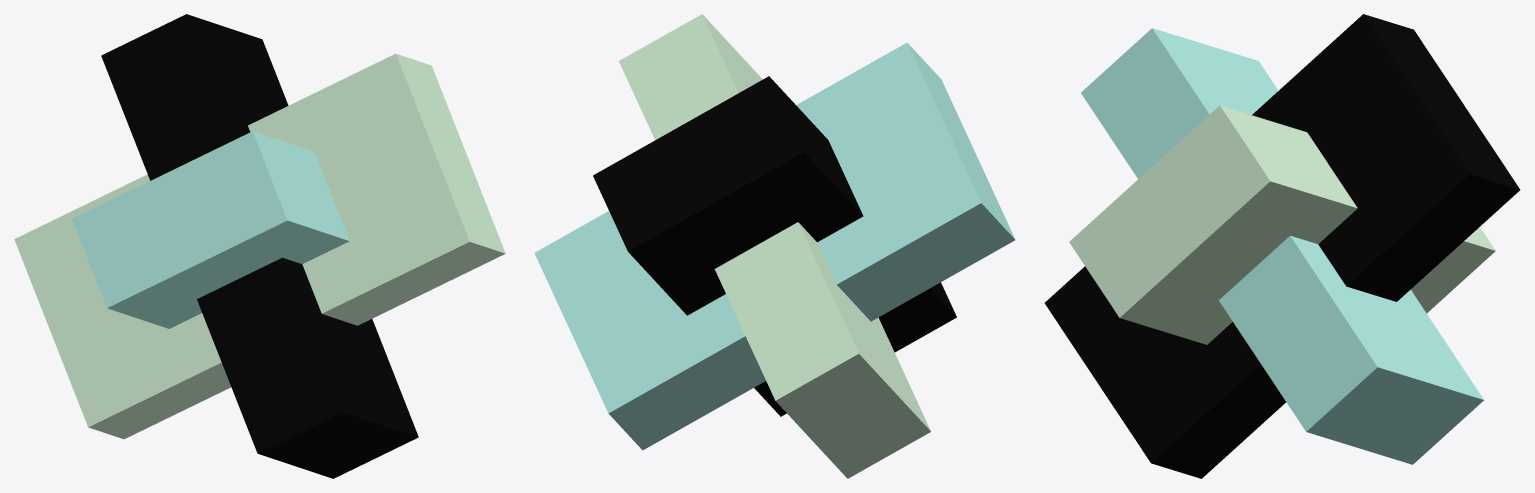
The model's file is 8puzzle.glb.
3 renders of one model, left to right at view 1: azimuth 30°, elevation 25°; view 2: azimuth 150°, elevation 25°; view 3: azimuth 270°, elevation 25°, orthographic. The views are drawn at different scales.
Parts seen in each view (by area): view 1: puzzle; view 2: puzzle; view 3: puzzle.
Part boxes in pixels (<box>): puzzle: <box>14,14,505,478</box>; puzzle: <box>534,14,1015,478</box>; puzzle: <box>1044,14,1520,478</box>.
Bounding box in the file's own units: 73.87 × 74.87 × 74.87.
